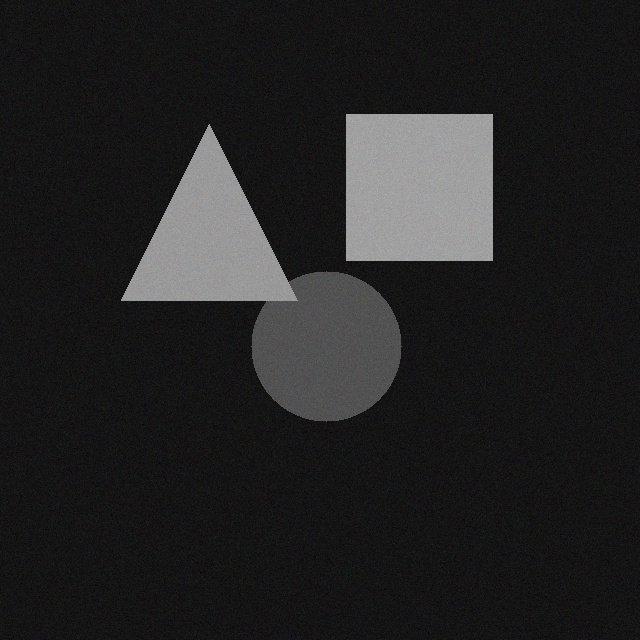circle: (264, 274, 414, 424)
square: (359, 117, 505, 263)
triangle: (134, 127, 310, 303)
